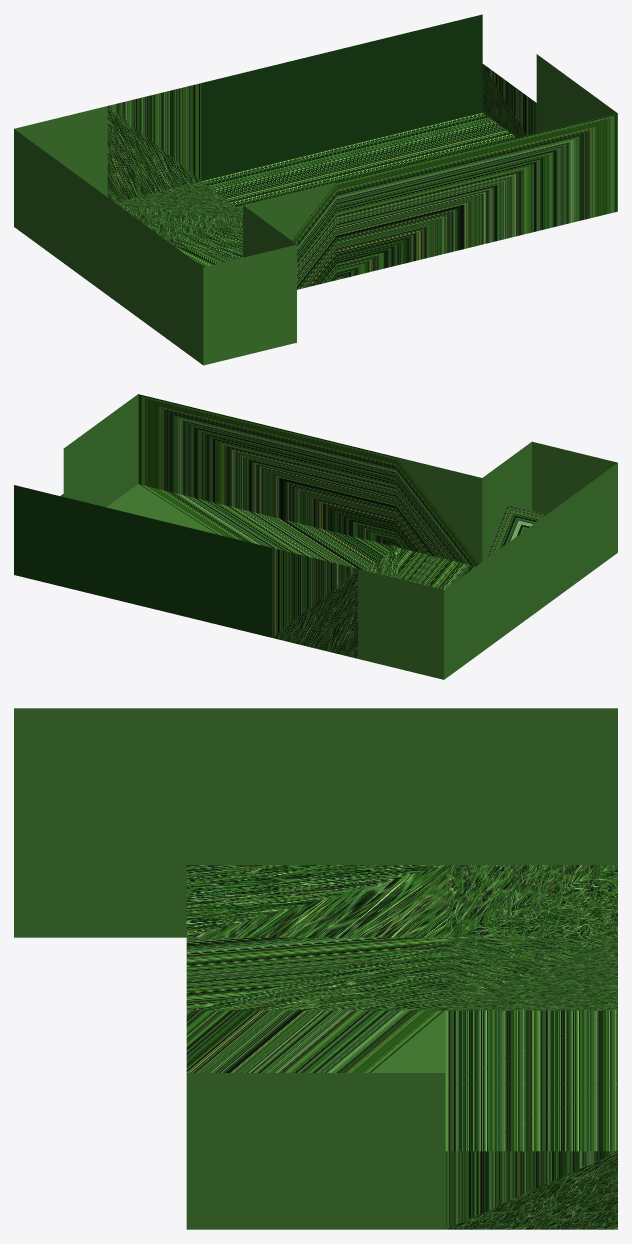
File: terrain.glb
3 renders of one model, top to bottom at view 1: azimuth 30°, elevation 25°; view 2: azimuth 150°, elevation 25°; view 3: azimuth 270°, elevation 25°, orthographic. The views are drawn at different scales.
Parts seen in each view (by area): view 1: Plane; view 2: Plane; view 3: Plane.
Part boxes in pixels (left/top/right/bottom): Plane: left=14, top=14, right=617, bottom=365; Plane: left=14, top=394, right=617, bottom=679; Plane: left=14, top=708, right=617, bottom=1229.
Bounding box in the file's own units: 10 × 2 × 7.
1 material, 1 textured.
